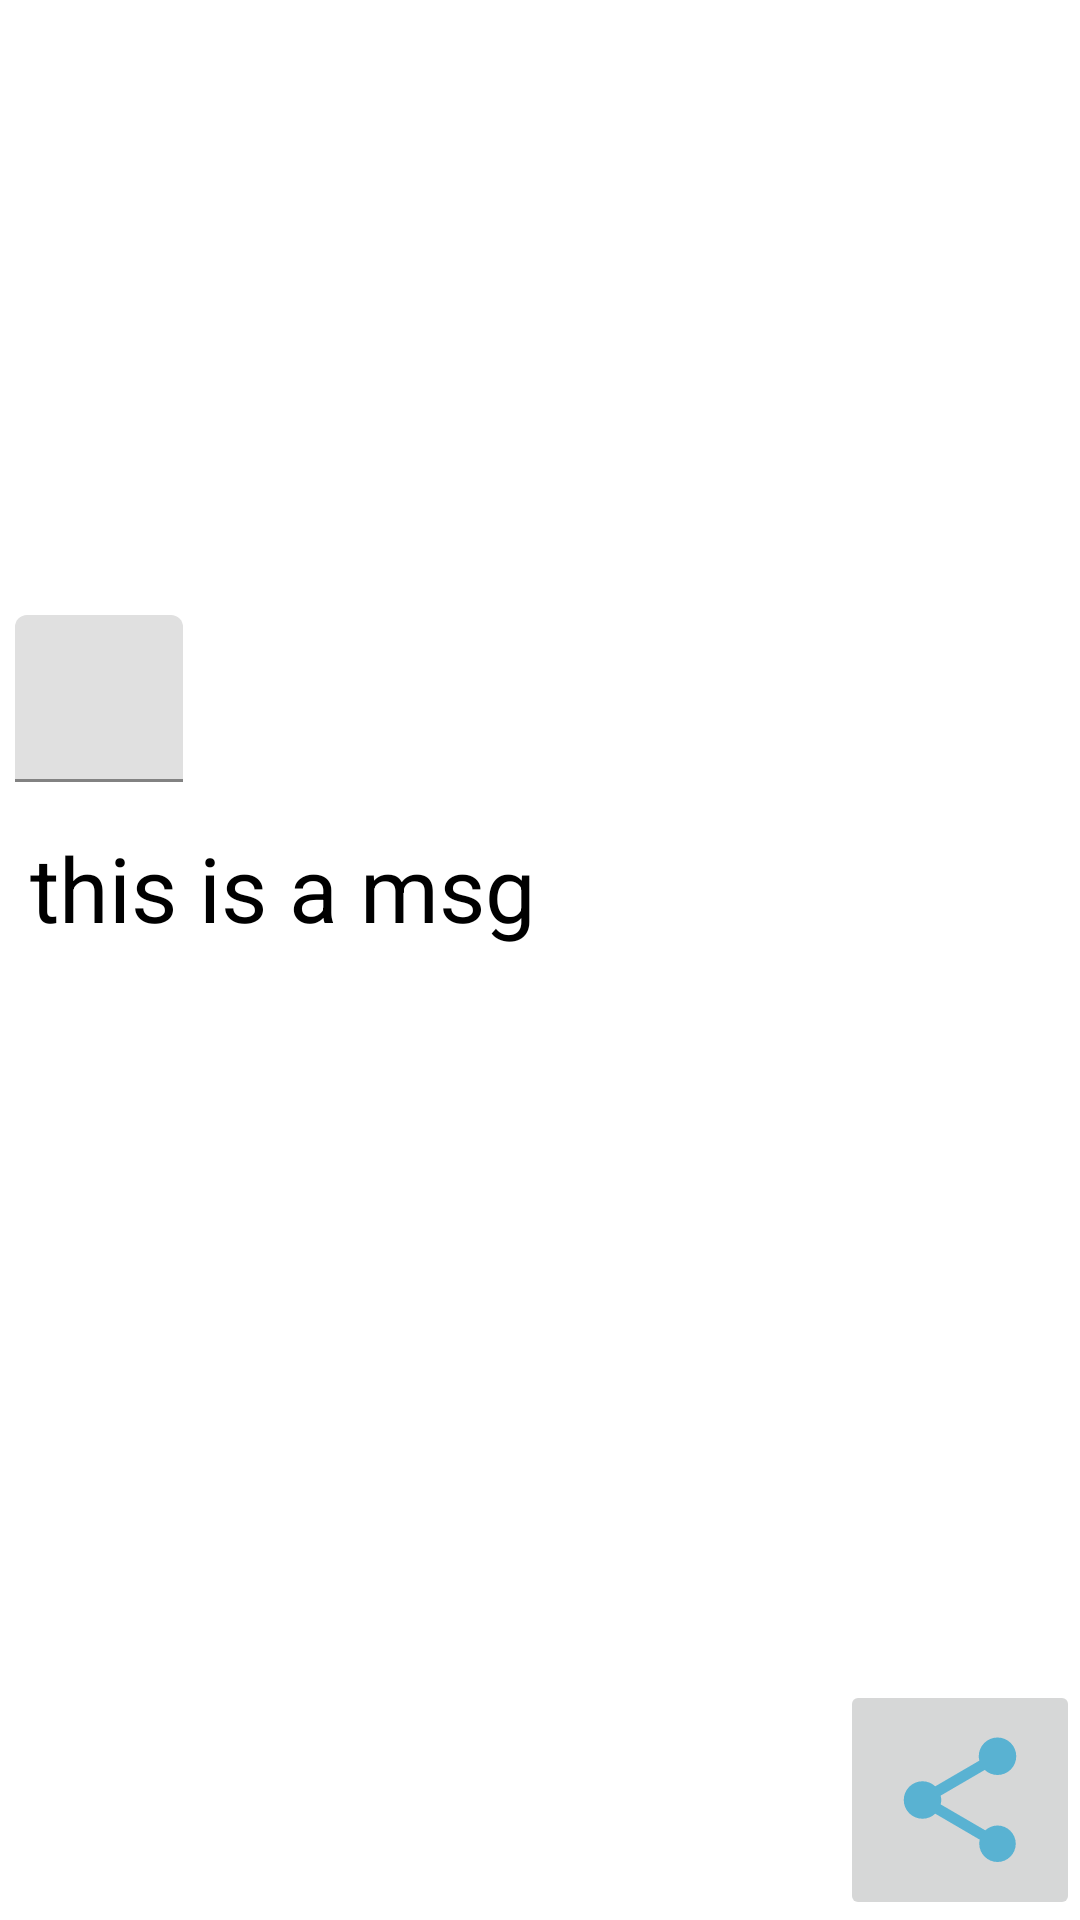

Screen size 1080px×1920px. Icon name, then its center in pixels as [x,y]:
share: [960,1800]
